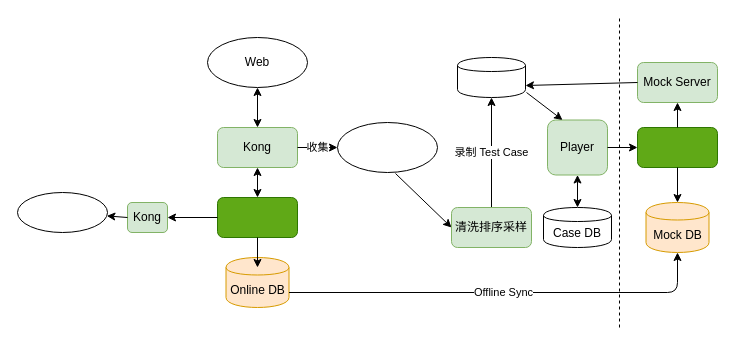
The diagram is 735 pixels wide and 346 high, and some of its shapes have lost their labels. Each missing label, with the box of its shape:
API Dependency: (16, 192, 108, 232)
ElasticSearch: (456, 56, 526, 98)
Kafka: (336, 122, 438, 172)
Server: (216, 196, 298, 238)
Test Server: (636, 126, 718, 168)
